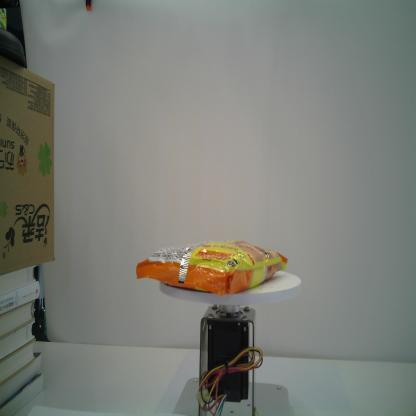Instant Noodles: (135, 239, 288, 298)
